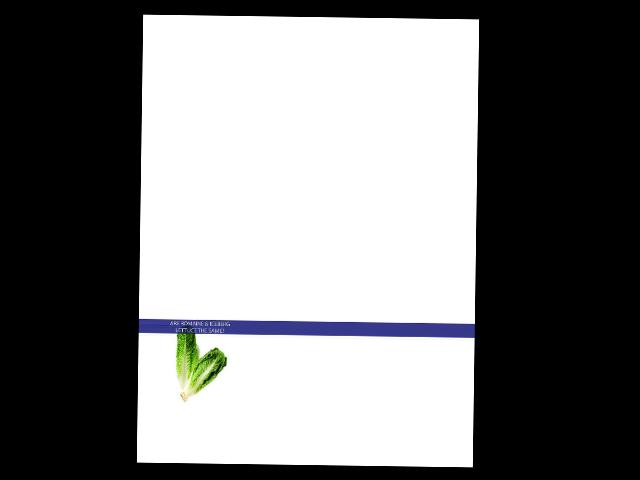lettuce: (177, 342, 226, 402)
